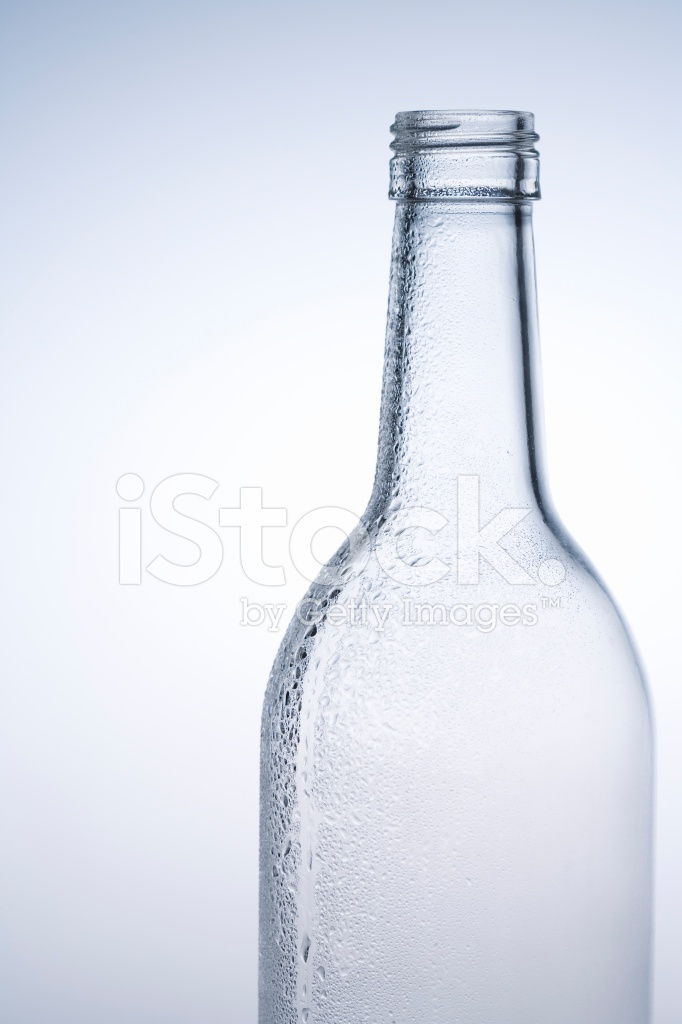emptybottle: (262, 111, 651, 1024)
